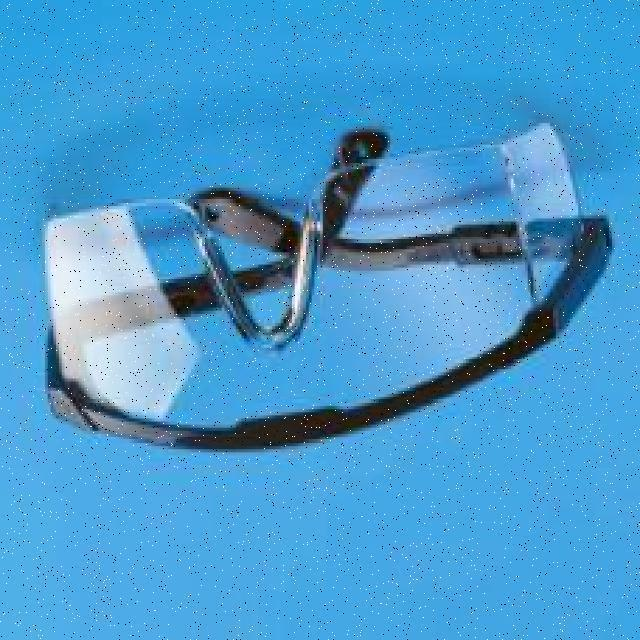Goggles: (34, 122, 618, 455)
